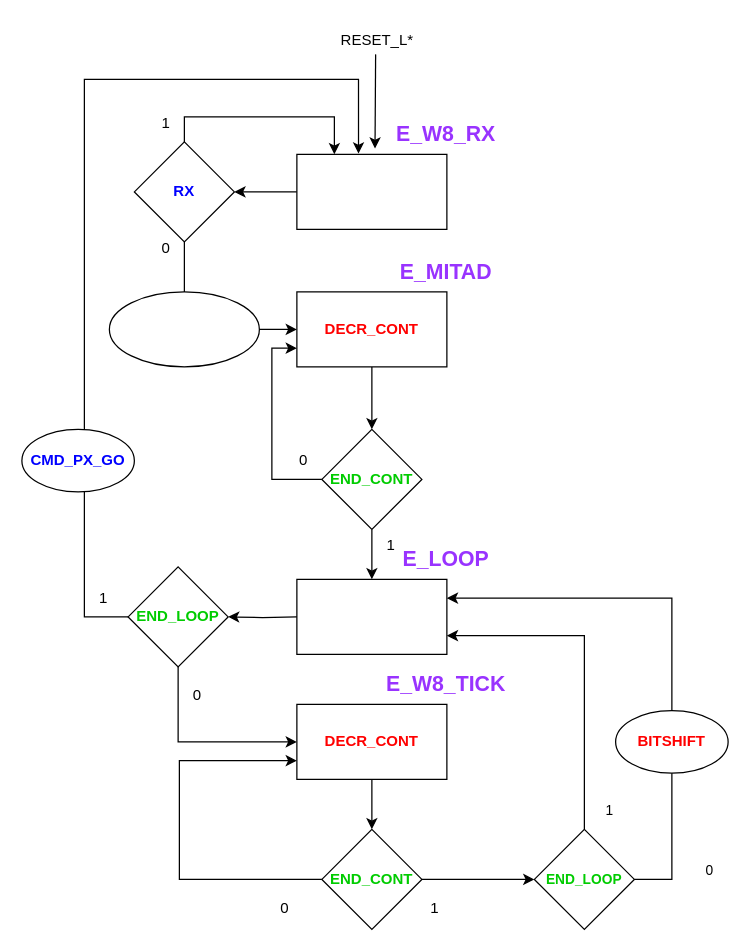
Image size: 750x951. Some labels were removed from this diagram. The shapes that lost their labels are listed below. From the top down, each one's box as (x1, y1, x2, y2) in pixels, then its label:
(108, 291, 259, 367): PR_CONT_HALF CLR_LOOP
(296, 578, 447, 654): INCR_LOOP PR_CONT_FULL
